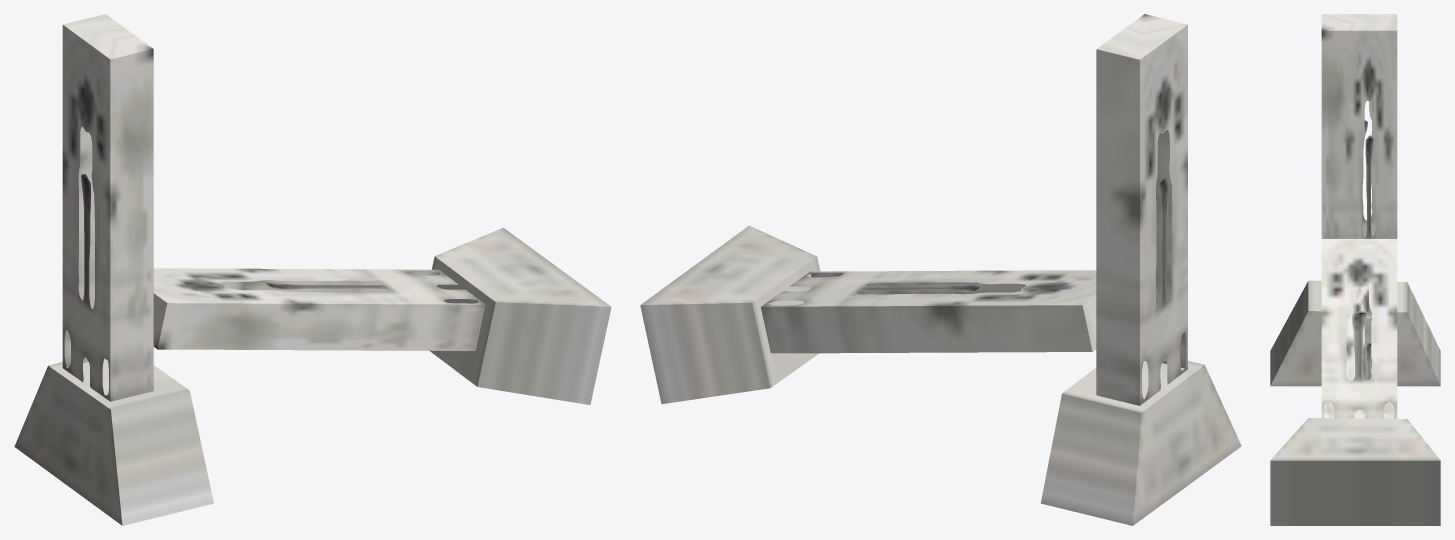
File: poi_r2_leg_l3.fbx
The picture shows the model from 3 angles, left to right: view 1: azimuth 30°, elevation 25°; view 2: azimuth 150°, elevation 25°; view 3: azimuth 270°, elevation 25°; orthographic projection. The views are drawn at different scales.
Parts seen in each view (by area): view 1: mesh_node; view 2: mesh_node; view 3: mesh_node.
Part boxes in pixels (bbox=[...]): mesh_node: bbox=[14, 14, 611, 525]; mesh_node: bbox=[640, 14, 1241, 525]; mesh_node: bbox=[1270, 14, 1440, 525].
Bounding box in the file's own units: 0.9451 × 0.8078 × 0.362.
1 material, 1 textured.
